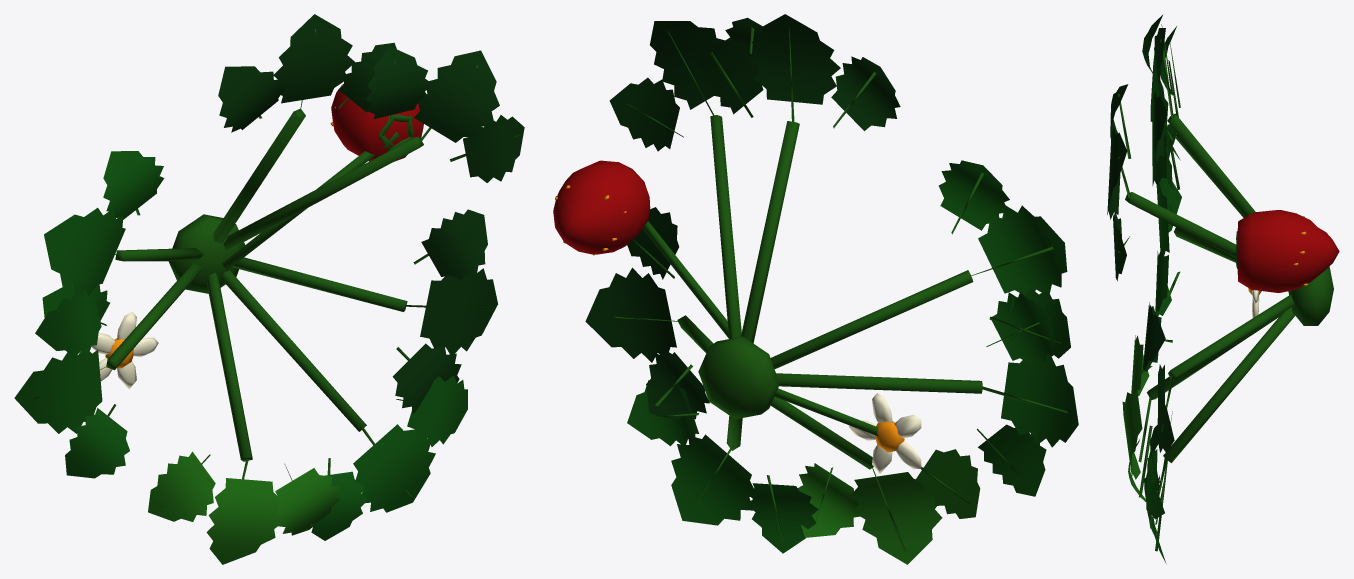
Rendered from plant_variant_05.obj.
The picture shows the model from 3 angles, left to right: view 1: azimuth 30°, elevation 25°; view 2: azimuth 150°, elevation 25°; view 3: azimuth 270°, elevation 25°; orthographic projection. The views are drawn at different scales.
Parts seen in each view (by area): view 1: field_export_plant_variant_05; view 2: field_export_plant_variant_05; view 3: field_export_plant_variant_05.
Boxes of the visible parts, box(x1,y1,x2,y2) form: field_export_plant_variant_05: box(14, 14, 524, 564); field_export_plant_variant_05: box(553, 14, 1078, 564); field_export_plant_variant_05: box(1107, 15, 1339, 563).
Bounding box in the file's own units: 0.5779 × 0.6025 × 0.2523.
